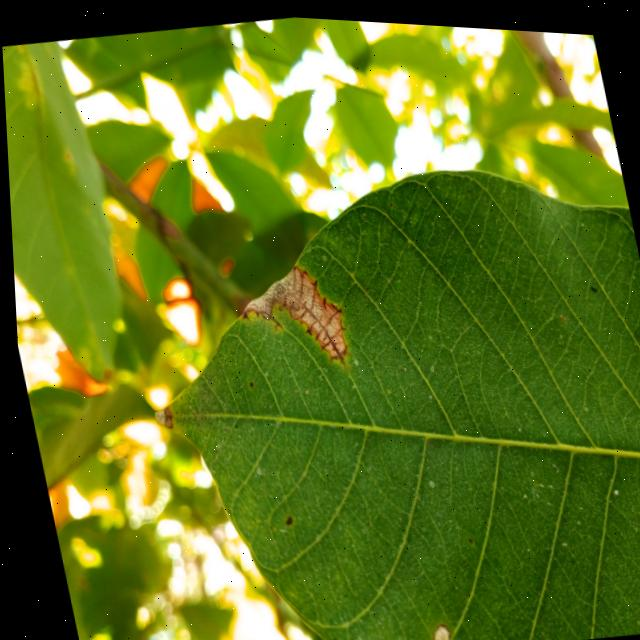Colletotrichum: (245, 378, 250, 385)
Leaf-Blight: (231, 254, 345, 369), (317, 326, 347, 362), (150, 405, 170, 428)
